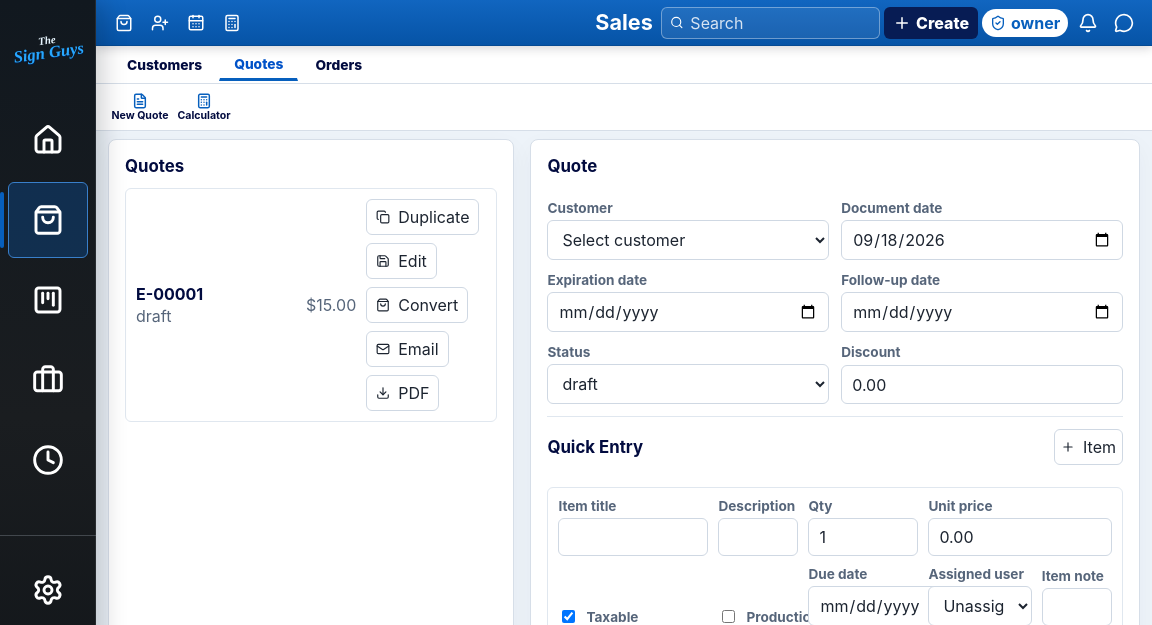
Part 2 UI › enables the Quote customer selector for creation and disables it for editing
Expected: the dropdown labelled "Customer" is enabled, [547,220,829,260]
Click the button "Edit" at (401, 261), box [366,243,437,279]
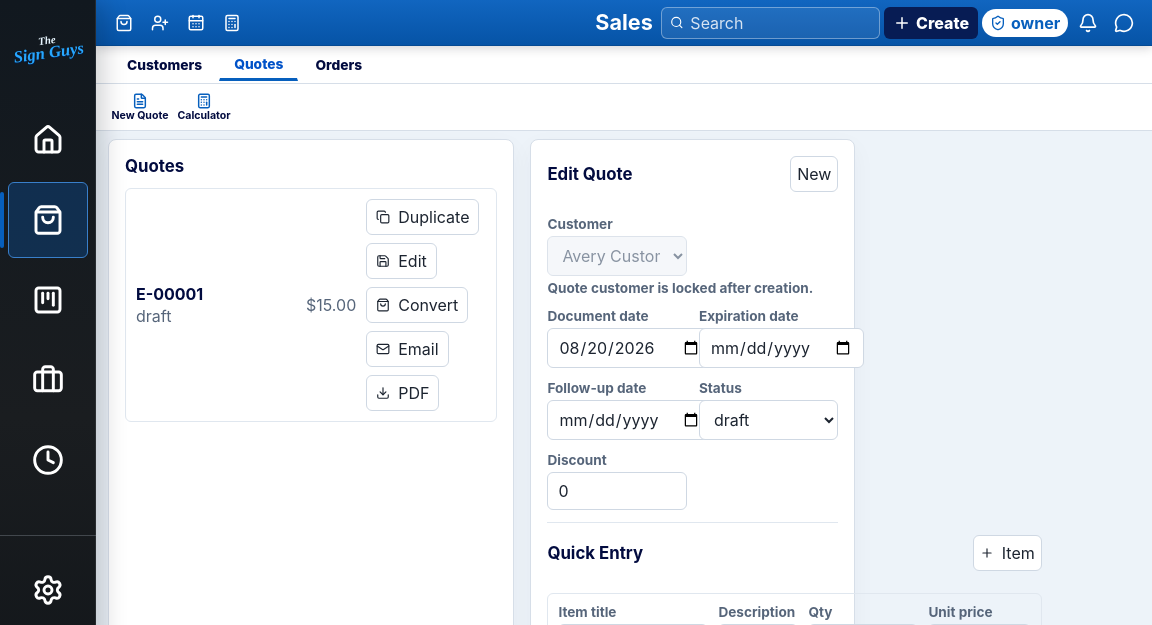
Expected: the text "Quote customer is locked after creation." is shown, [547,280,838,296]
Expected: the dropdown labelled "Customer" is disabled, [547,236,687,276]
